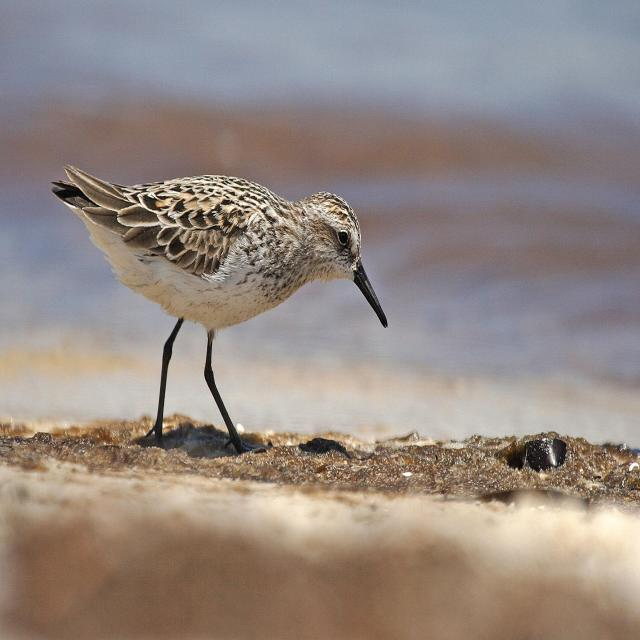Sandpiper: (59, 151, 388, 447)
